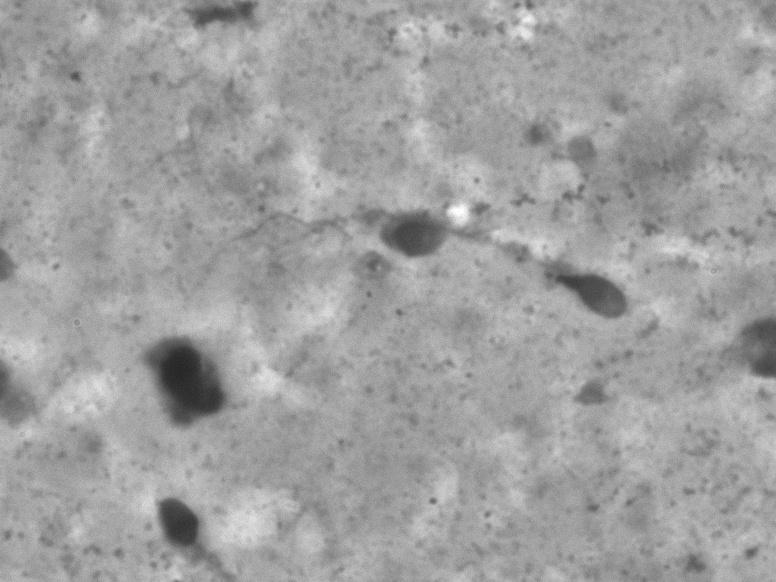Abnormal: (171, 172, 663, 335)
